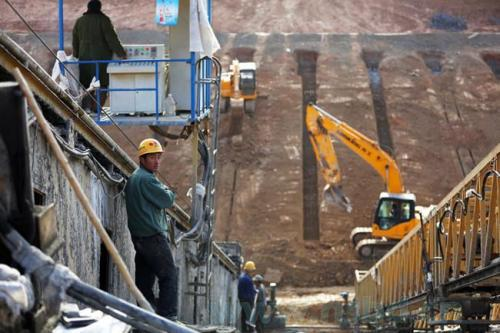helmet: (136, 135, 164, 173), (240, 259, 257, 277)
